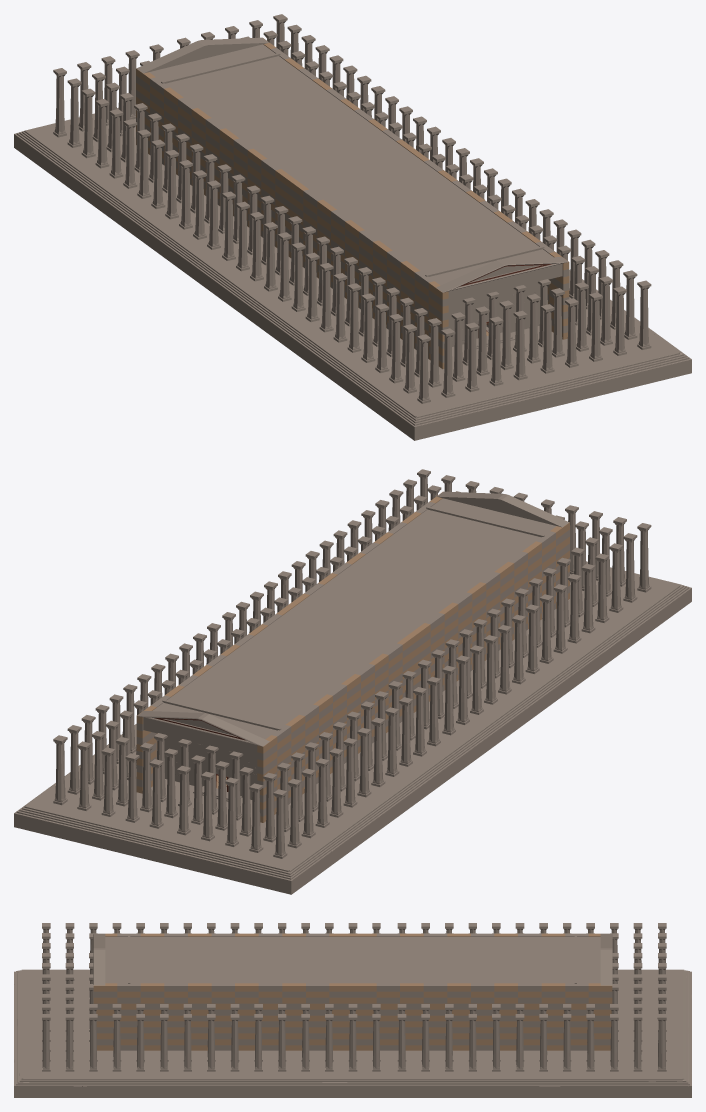
File: Temple02_Solid_v02.fbx
The picture shows the model from 3 angles, top to bottom: view 1: azimuth 30°, elevation 25°; view 2: azimuth 150°, elevation 25°; view 3: azimuth 270°, elevation 25°; orthographic projection. The views are drawn at different scales.
Parts seen in each view (by area): view 1: Cube.021; view 2: Cube.021; view 3: Cube.021.
Part boxes in pixels (<box>): Cube.021: <box>14,14,691,440</box>; Cube.021: <box>14,469,691,894</box>; Cube.021: <box>14,923,691,1097</box>.
Size of the model in its own units: 4600 by 1747 by 11500.
